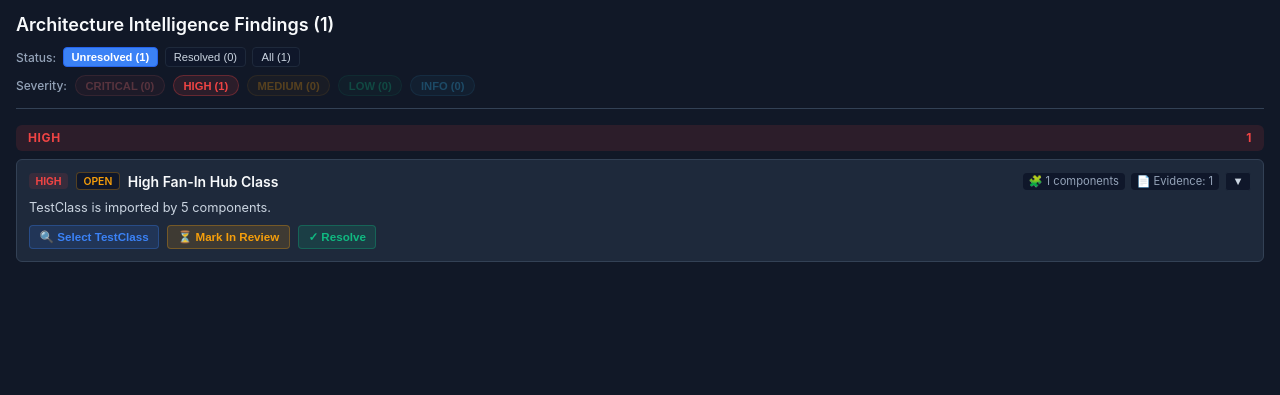
it: Phase 1G-B Disclosure and Expanded/Collapsed Accessibility › 3. FindingsPanel evidence disclosure accessibility
# Expand evidence
Click the button named "expand evidence for high fan-in hub class" at (1238, 181), box [1225,172,1251,191]
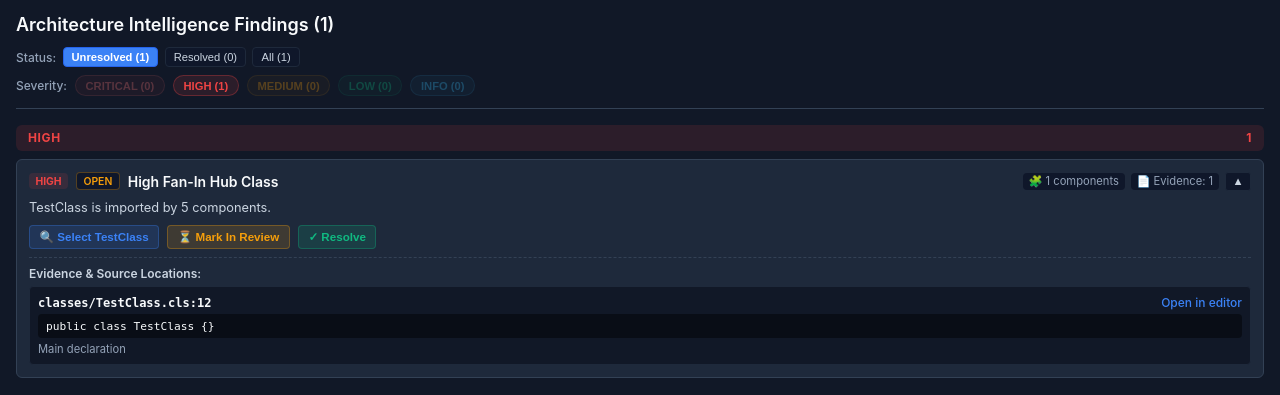
Check: the button named "expand evidence for high fan-in hub class" is expanded
# Collapse evidence
Click the button named "expand evidence for high fan-in hub class" at (1238, 181), box [1225,172,1251,191]
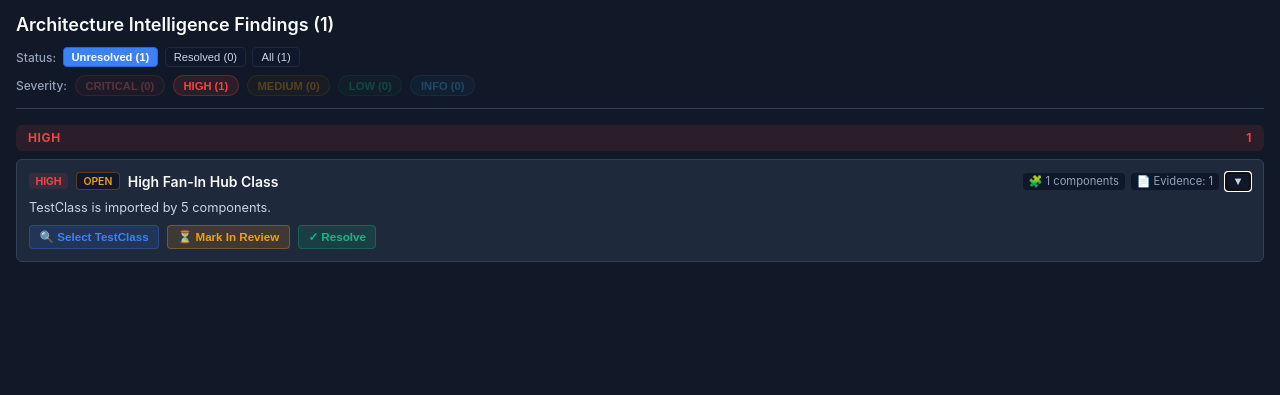
Check: the button named "expand evidence for high fan-in hub class" is collapsed, box [1225,172,1251,191]
